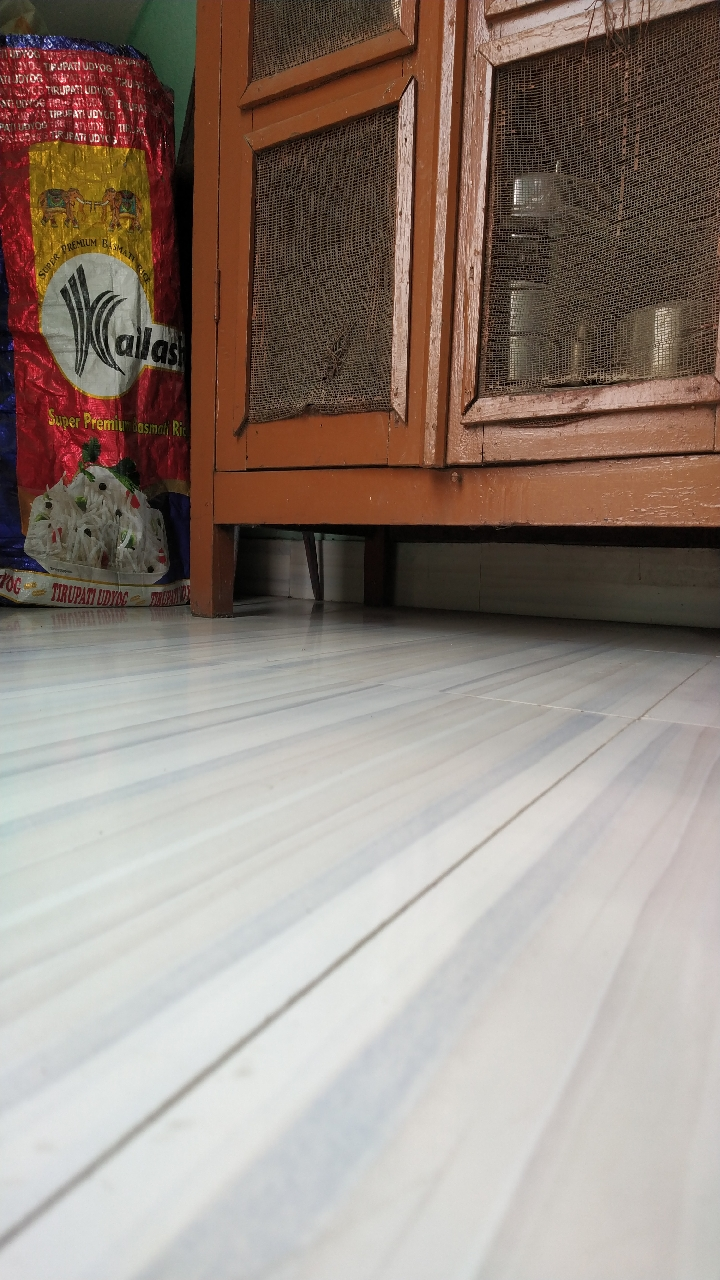Furnitures: (178, 235, 720, 646)
